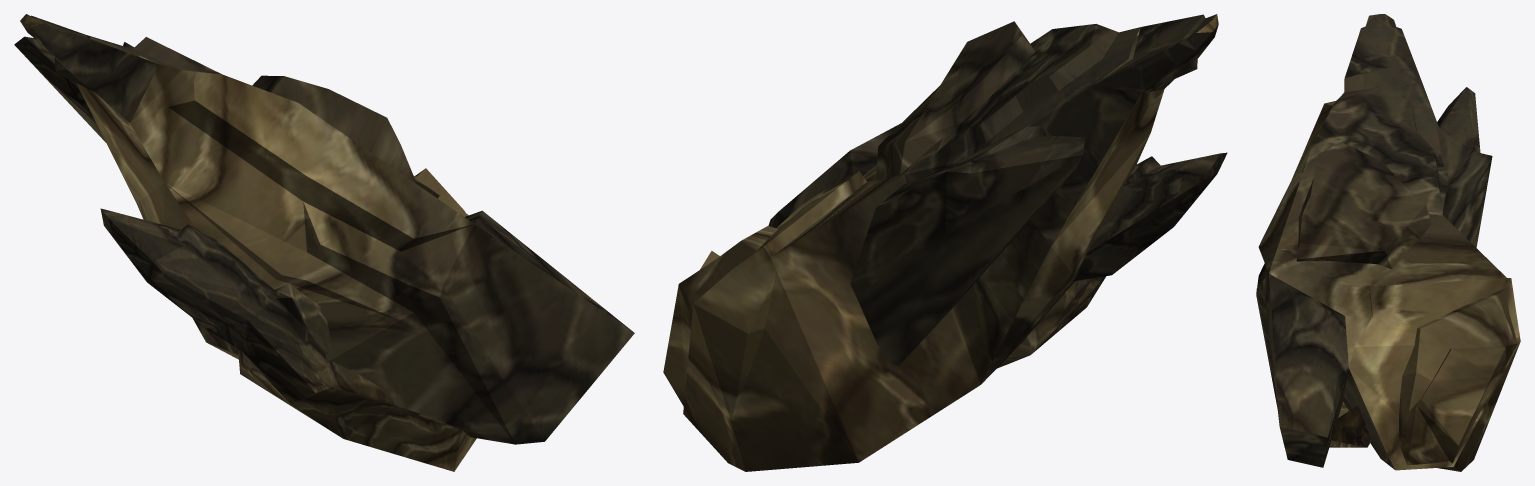
Rendered from D_yanshi007.fbx.
3 renders of one model, left to right at view 1: azimuth 30°, elevation 25°; view 2: azimuth 150°, elevation 25°; view 3: azimuth 270°, elevation 25°, orthographic. The views are drawn at different scales.
Visible parts, largest first — view 1: D_yanshi007; view 2: D_yanshi007; view 3: D_yanshi007.
Part boxes in pixels (x1,y1,x2,y2): D_yanshi007: (14, 14, 634, 471); D_yanshi007: (663, 14, 1227, 471); D_yanshi007: (1256, 14, 1520, 471).
Size of the model in its own units: 1051 by 956 by 707.
